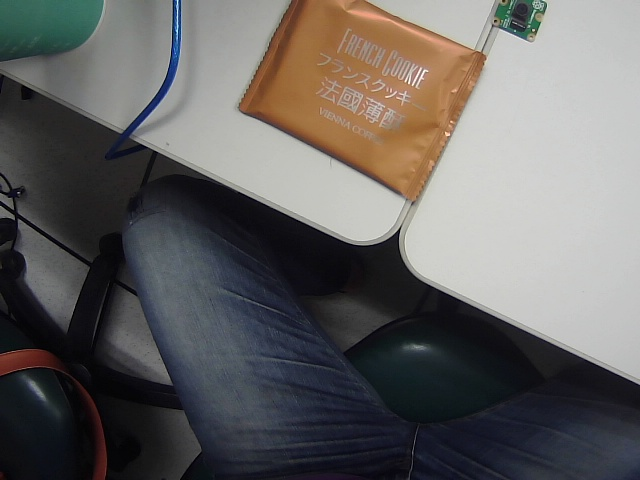frenchcookie: (231, 1, 491, 207)
